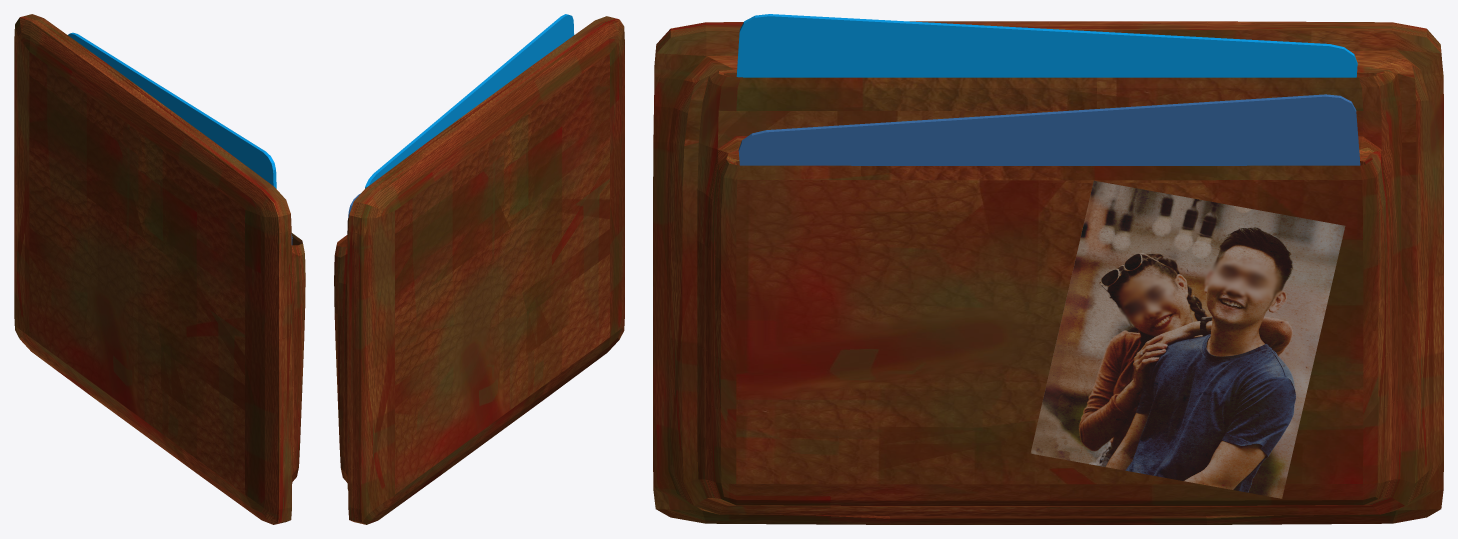
File: waller_lvl 3.fbx
3 renders of one model, left to right at view 1: azimuth 30°, elevation 25°; view 2: azimuth 150°, elevation 25°; view 3: azimuth 270°, elevation 25°, orthographic. The views are drawn at different scales.
Parts seen in each view (by area): view 1: Cube.009; view 2: Cube.009; view 3: Cube.009.
Part boxes in pixels (x1,y1,x2,y2): Cube.009: (14,14,305,524); Cube.009: (334,14,624,524); Cube.009: (653,14,1443,524).
Size of the model in its own units: 48.59 by 248 by 343.
Materials: 4 (2 with a texture image).
